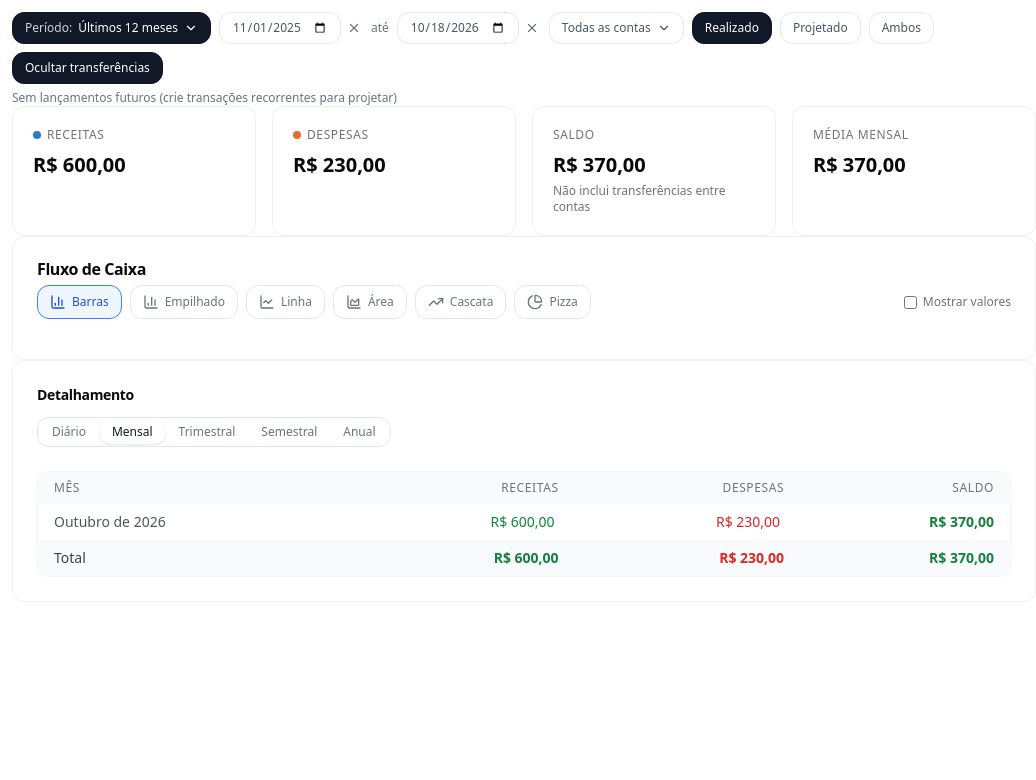
cards × total do detalhamento › clicar na despesa do mês abre os lançamentos que formam a soma
Click the button "R$ 230,00".
click(748, 522)  # box [712,512,784,532]
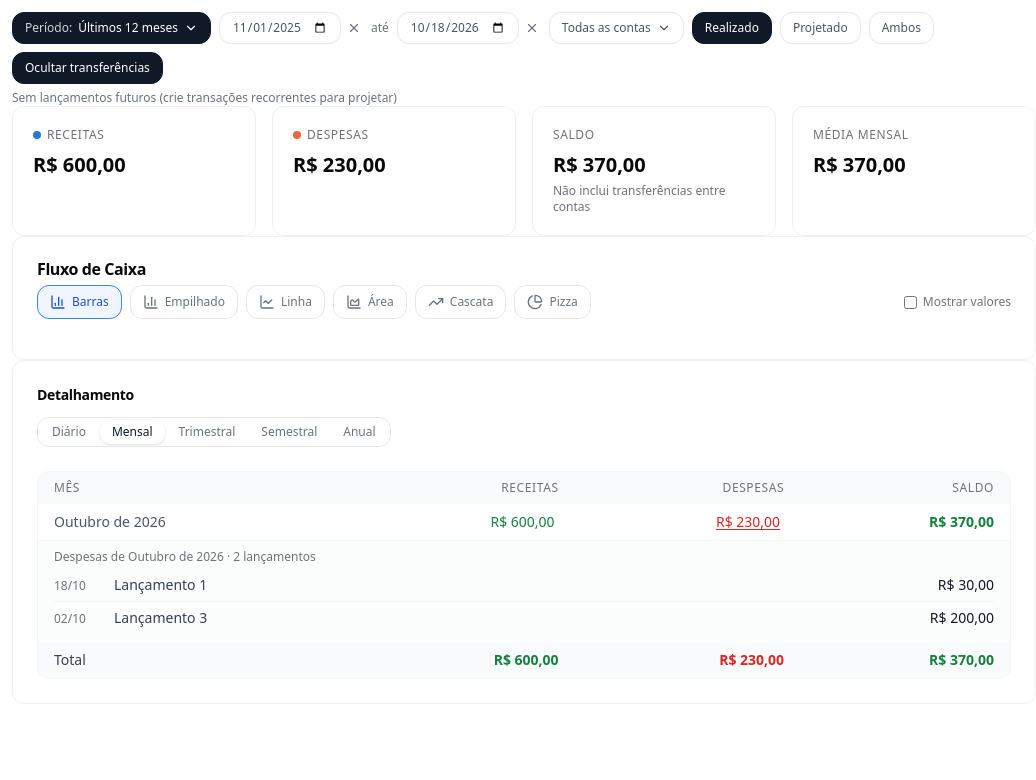
Now the text "Despesas de Outubro de 2026 · 2 lançamentos" is shown, box [54,548,316,565]
Now the text "Lançamento 1" is shown, box [114,575,207,594]
Now the text "Lançamento 3" is shown, box [114,608,207,627]
